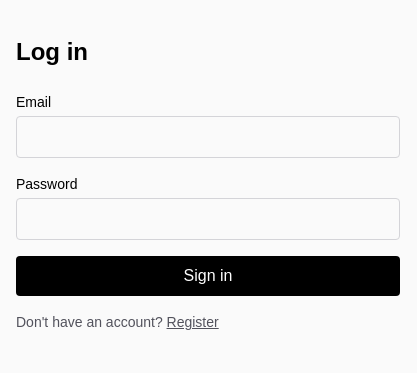
it: login page › shows the API's error message and does not redirect on failure
Type "alice@example.com" into the field labelled "Email" at (208, 137), box [16, 116, 400, 158]
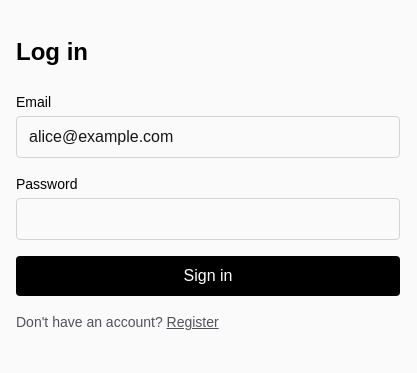
Type "wrong-password" into the password field labelled "Password" at (208, 219), box [16, 198, 400, 240]
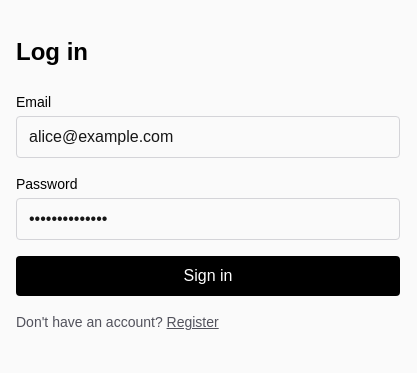
Click the button "Sign in" at (208, 276), box [16, 256, 400, 296]
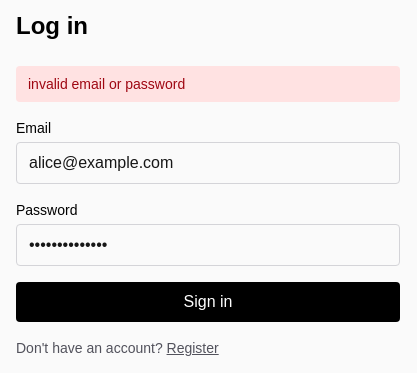
Result: the message reads "invalid email or password" at [28, 76, 185, 92]
